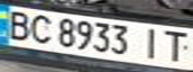3: (109, 21, 136, 56), (90, 20, 115, 55)
8: (51, 16, 78, 48)
9: (72, 18, 93, 52)
B: (0, 7, 36, 42)
C: (24, 11, 57, 45)
I: (136, 25, 166, 61)
T: (157, 28, 190, 63)
